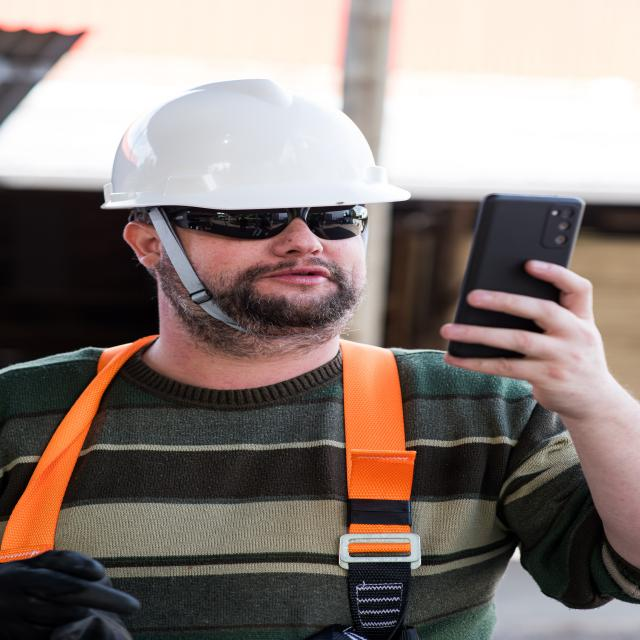capacete: (91, 74, 420, 224)
corda de vida: (0, 321, 452, 639)
